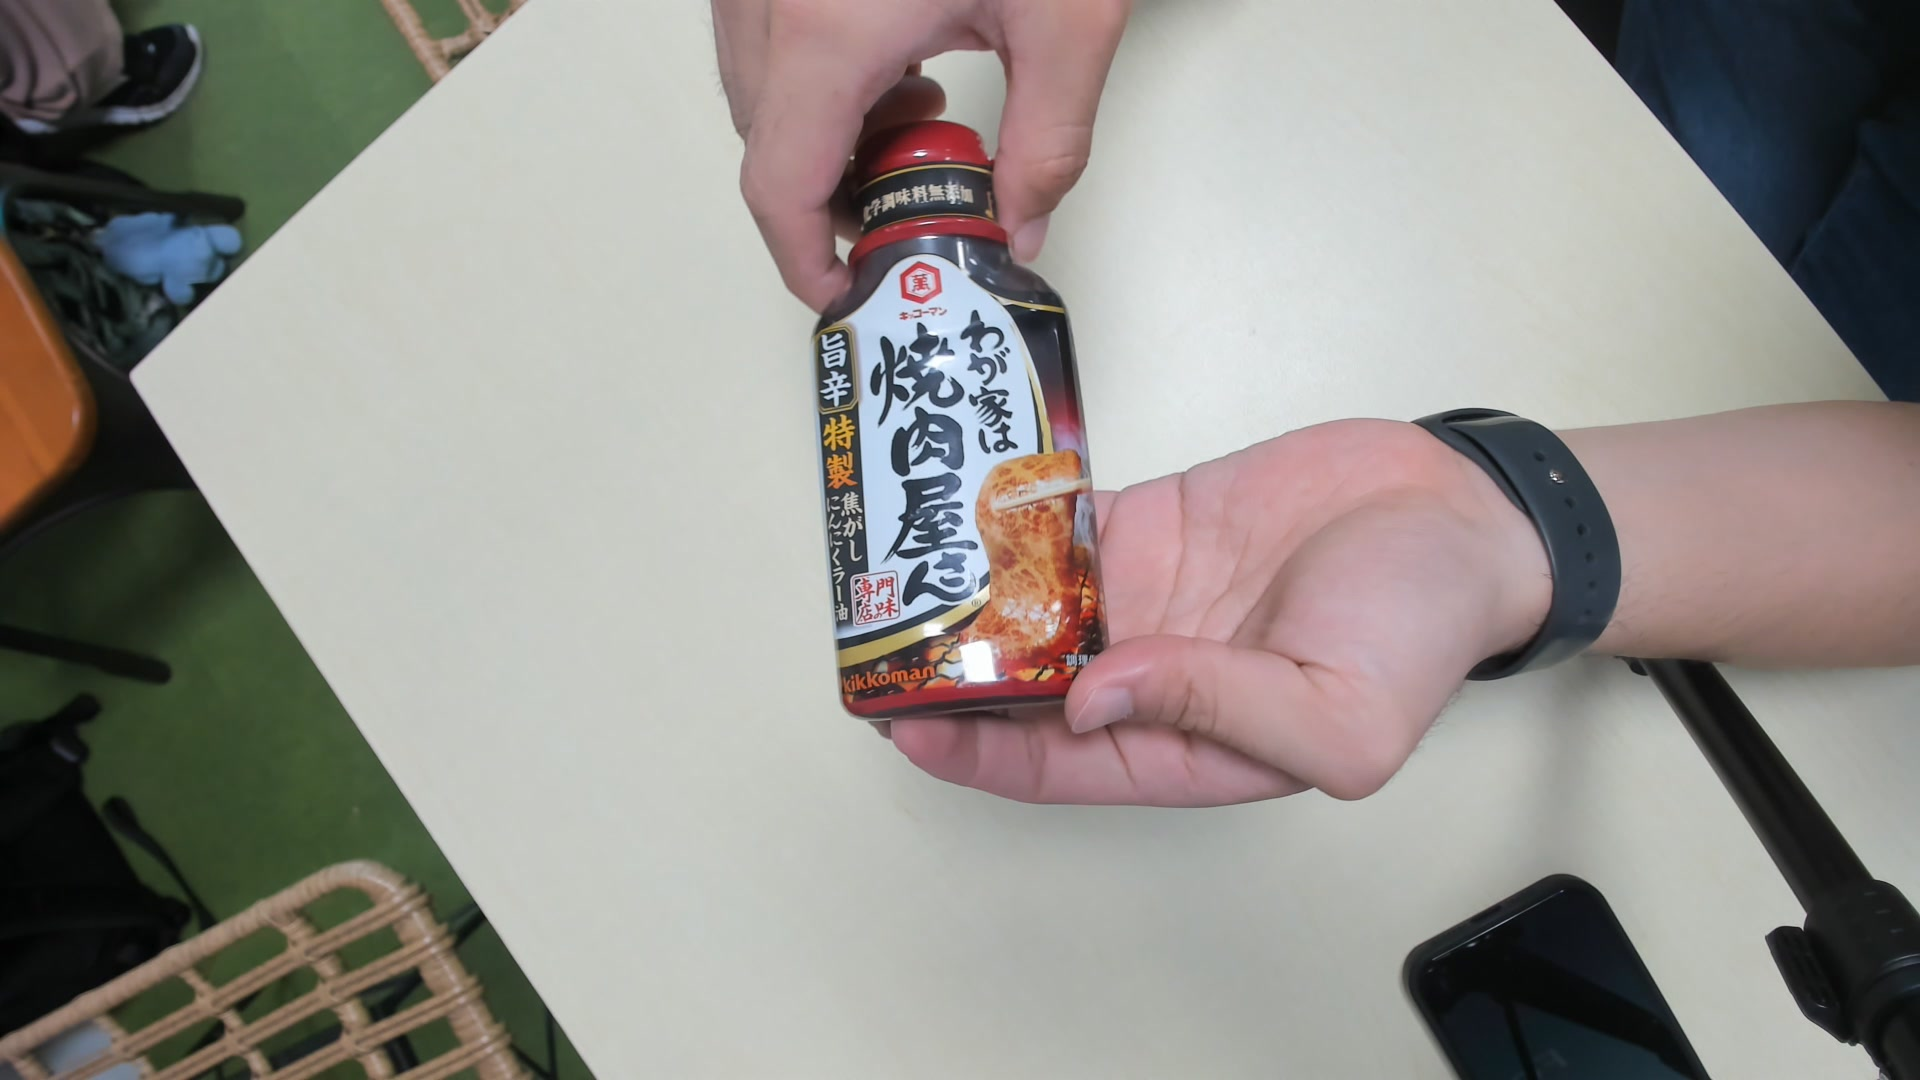OtherSauceDressing_200-299g_NonHalal_NonHealthy: (814, 119, 1112, 727)
